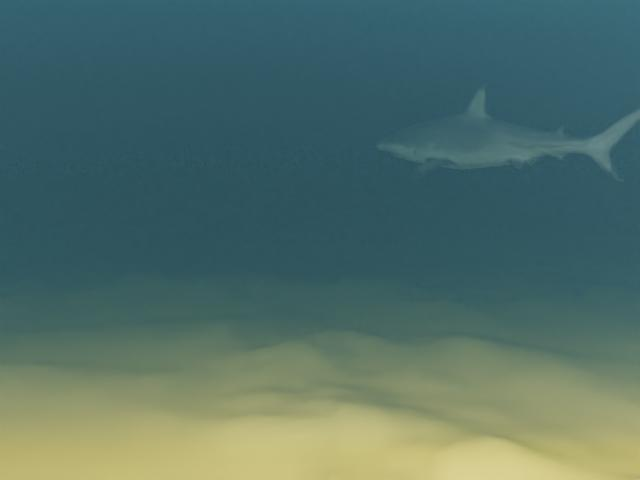Carribean Shark.001: (376, 83, 640, 182)
